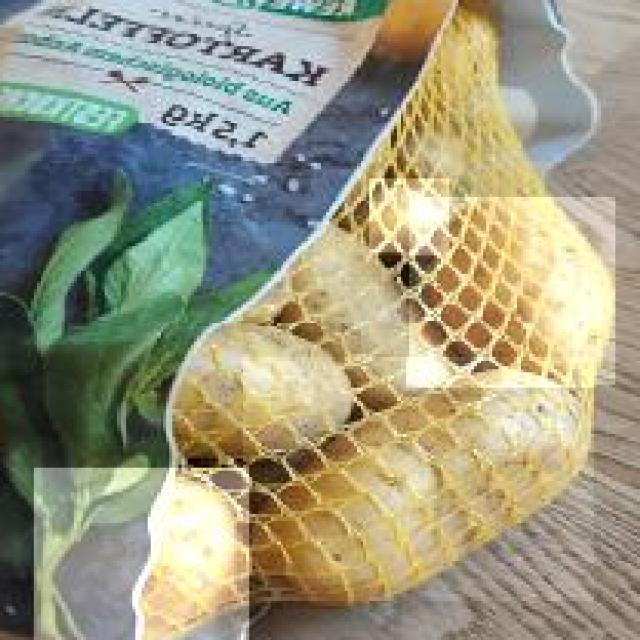potato: (240, 358, 594, 604), (407, 198, 616, 390), (30, 464, 249, 640), (157, 325, 360, 466), (366, 178, 449, 256)
